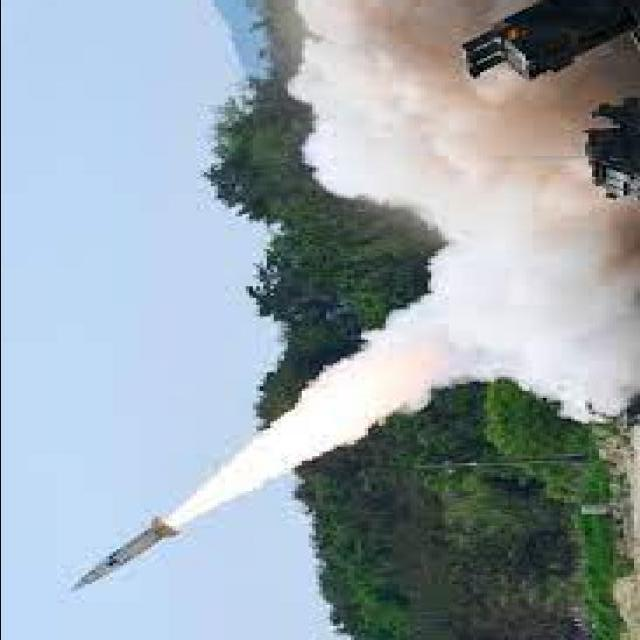missile: (70, 512, 184, 597)
